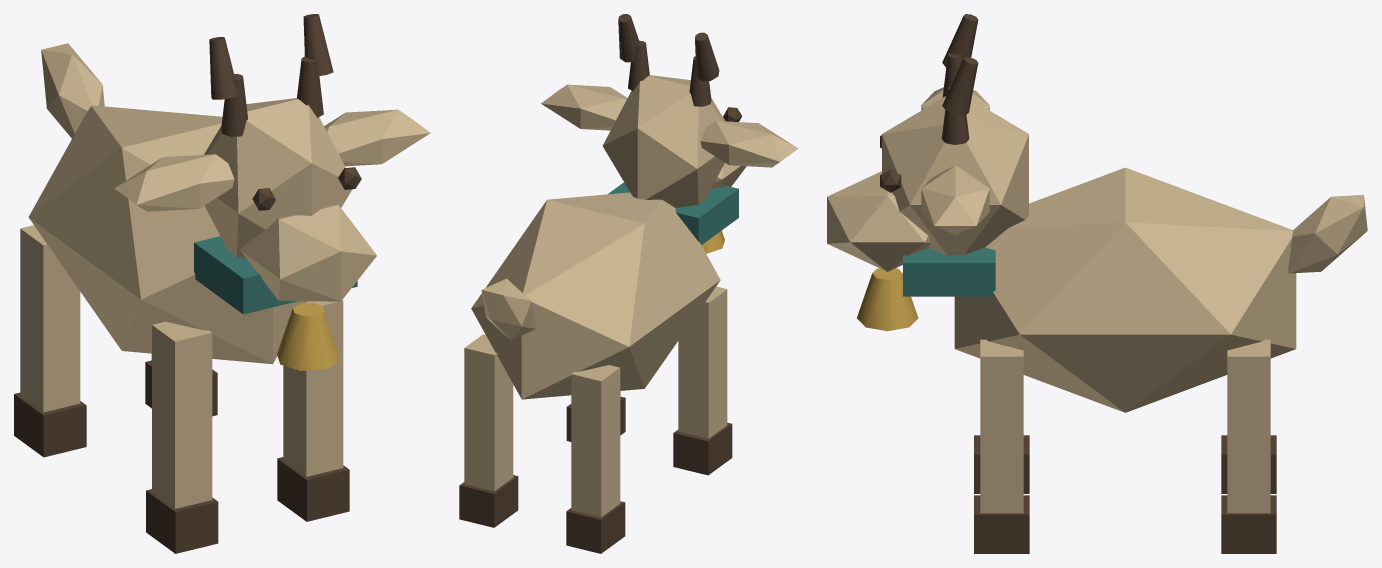
Rendered from goat.glb.
The picture shows the model from 3 angles, left to right: view 1: azimuth 30°, elevation 25°; view 2: azimuth 150°, elevation 25°; view 3: azimuth 270°, elevation 25°; orthographic projection. The views are drawn at different scales.
Parts seen in each view (by area): view 1: goat-surface, goat-head-surface; view 2: goat-surface, goat-head-surface; view 3: goat-surface, goat-head-surface.
Boxes of the visible parts, x1,y1,x2,y2 form: goat-surface: (14,43,349,553); goat-head-surface: (114,14,430,370); goat-surface: (459,192,732,553); goat-head-surface: (541,14,798,253); goat-surface: (954,167,1367,553); goat-head-surface: (827,14,1028,331).
Size of the model in its own units: 1.03 by 1.7 by 1.75.
